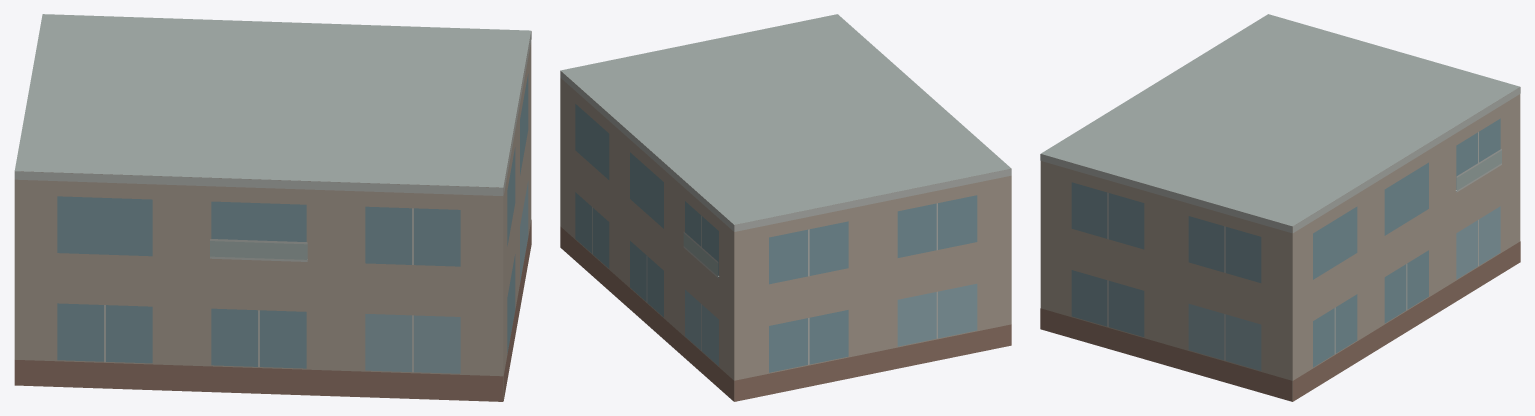
File: survey-upis-33025705.glb
3 renders of one model, left to right at view 1: azimuth 30°, elevation 25°; view 2: azimuth 150°, elevation 25°; view 3: azimuth 270°, elevation 25°, orthographic. The views are drawn at different scales.
Visible parts, largest first — view 1: survey-upis-33025705.tmp; view 2: survey-upis-33025705.tmp; view 3: survey-upis-33025705.tmp.
Boxes of the visible parts, bbox=[...] form: survey-upis-33025705.tmp: bbox=[14, 14, 531, 401]; survey-upis-33025705.tmp: bbox=[560, 14, 1011, 401]; survey-upis-33025705.tmp: bbox=[1040, 14, 1520, 401].
Size of the model in its own units: 15.85 by 6.1 by 15.13.
